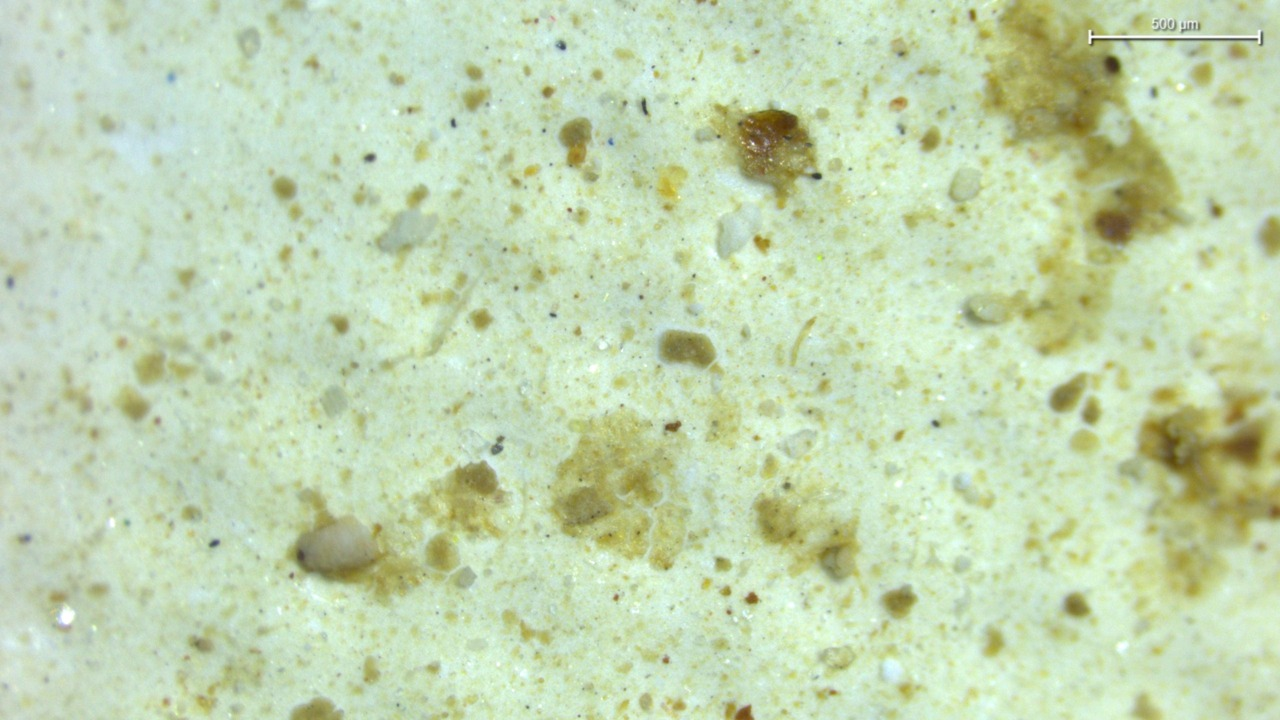microplastic_fragment: (297, 517, 378, 574), (377, 208, 437, 252), (716, 206, 760, 258), (964, 293, 1026, 324), (949, 167, 982, 202)
